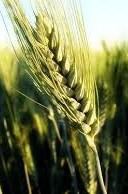Healthy Wheat: (26, 14, 102, 137)
